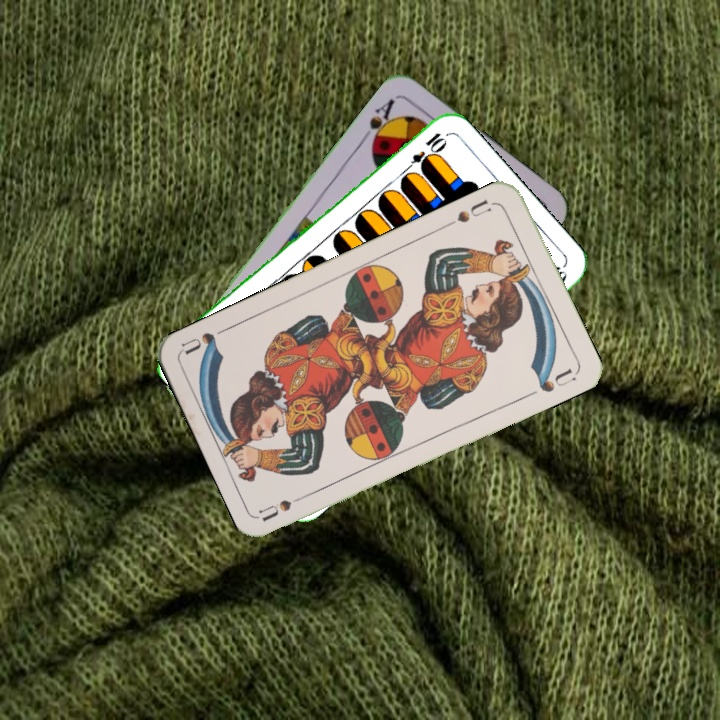E10: (399, 128, 448, 177)
SA: (357, 94, 400, 150)
SU: (256, 488, 314, 523), (443, 195, 494, 230)
